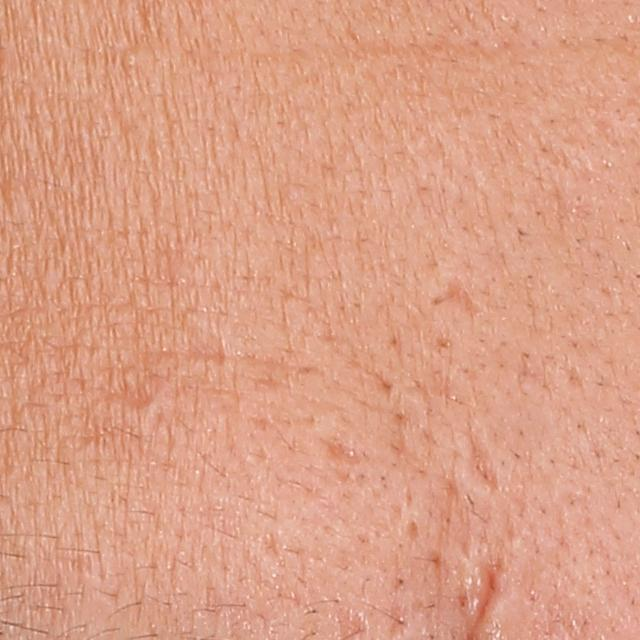atrophic_scar: (427, 271, 488, 325), (319, 433, 369, 483), (463, 429, 499, 494)
comedo: (123, 51, 138, 71)
